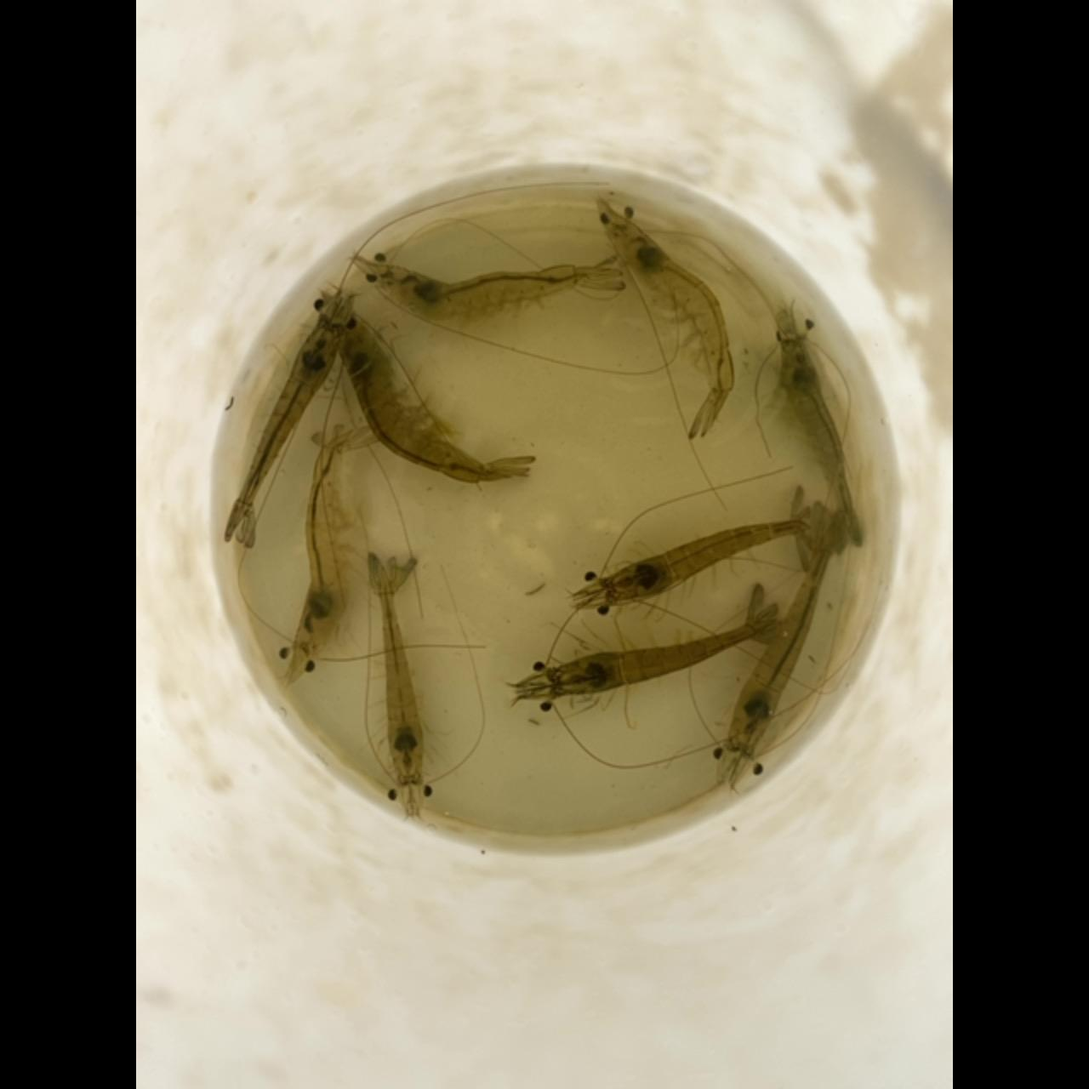round_base: (236, 194, 862, 839)
side_shrimp: (336, 322, 510, 482)
top_shrimp: (727, 524, 832, 754), (231, 320, 339, 529), (613, 223, 733, 404), (607, 518, 812, 602), (553, 619, 777, 695), (779, 338, 853, 533), (383, 265, 608, 316), (296, 437, 345, 652), (381, 570, 424, 783)
